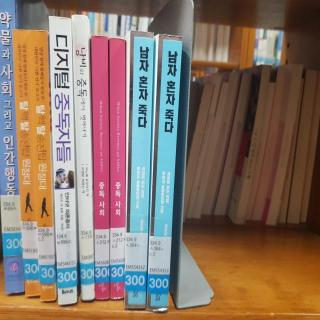book-spine: (145, 33, 183, 311), (122, 30, 154, 310), (49, 15, 78, 306), (28, 29, 56, 301), (12, 29, 40, 297), (0, 0, 24, 293), (71, 15, 95, 301), (91, 36, 109, 299), (108, 37, 125, 298), (146, 236, 172, 294), (125, 233, 149, 291), (0, 194, 22, 256), (55, 229, 77, 288), (21, 221, 39, 280), (37, 227, 55, 283), (78, 227, 95, 285), (109, 227, 125, 283), (94, 229, 109, 283)
